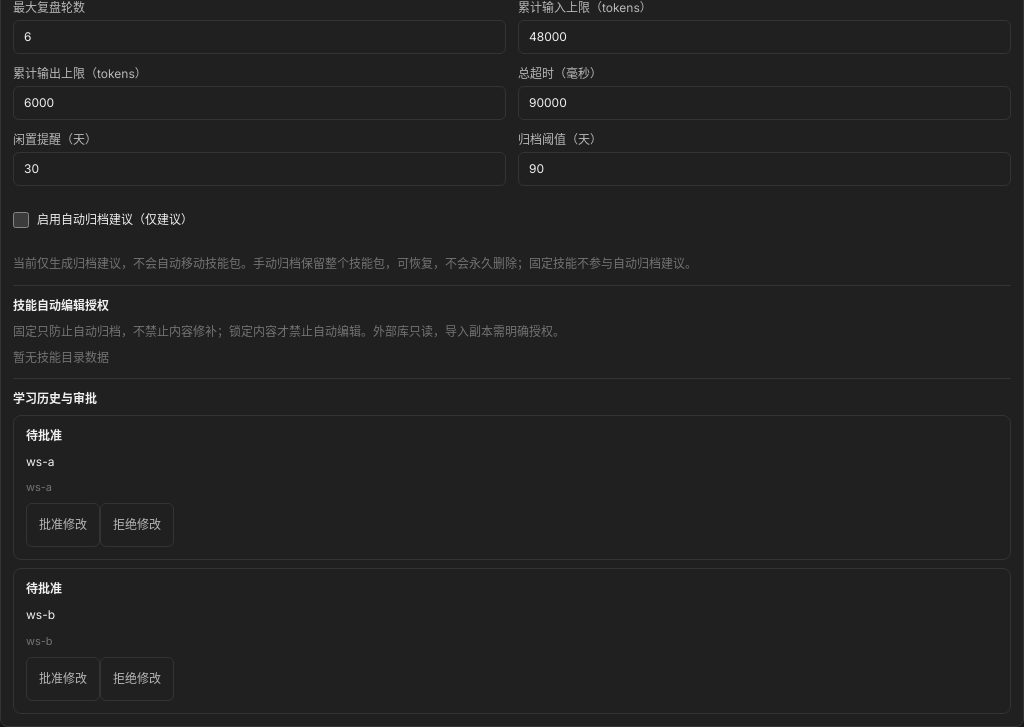
Scenario: SkillLearningSettings › binds each history action to its own frozen state even when batch ids overlap
(page scrolled)
Click the button named "批准修改". click: (63, 678)
box: [26,656,100,700]
(page scrolled)
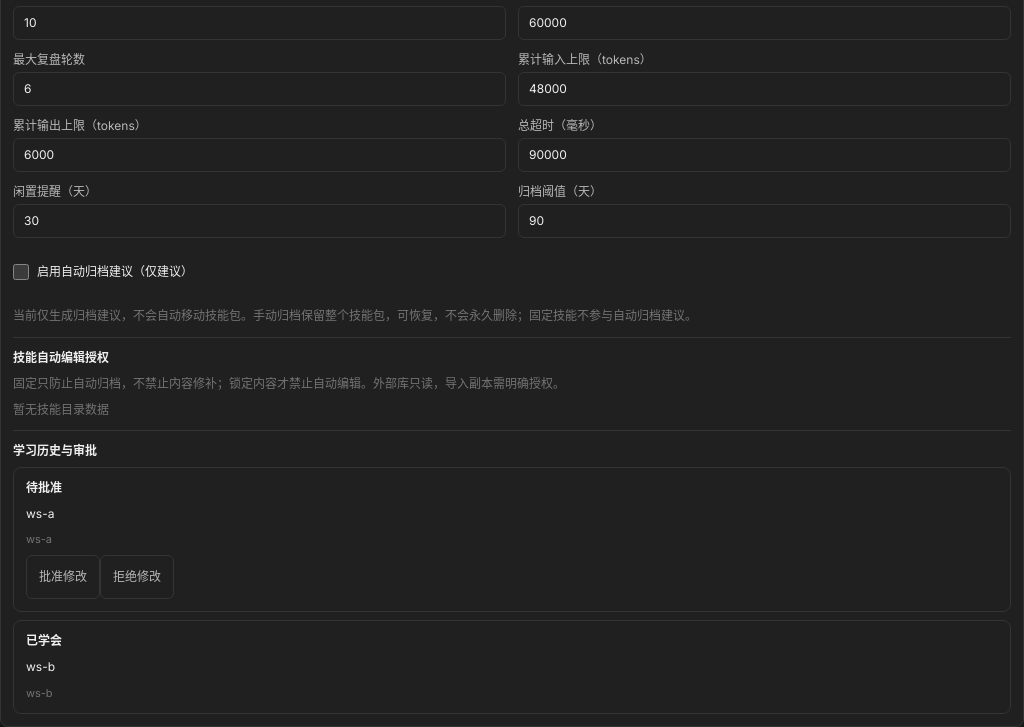
Expected: the element showing "待批准 ws-a ws-a 批准修改 拒绝修改" is shown, [13,466,1011,612]
Now the element showing "已学会 ws-b ws-b" is shown, box [13,620,1011,714]
